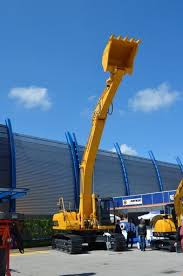excavator: (52, 35, 148, 255)
